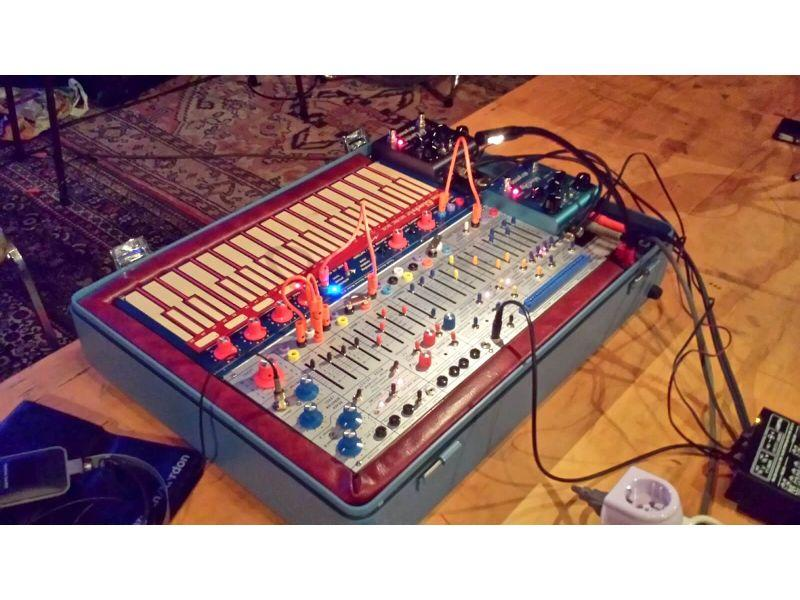synthesizer: (74, 172, 637, 506)
